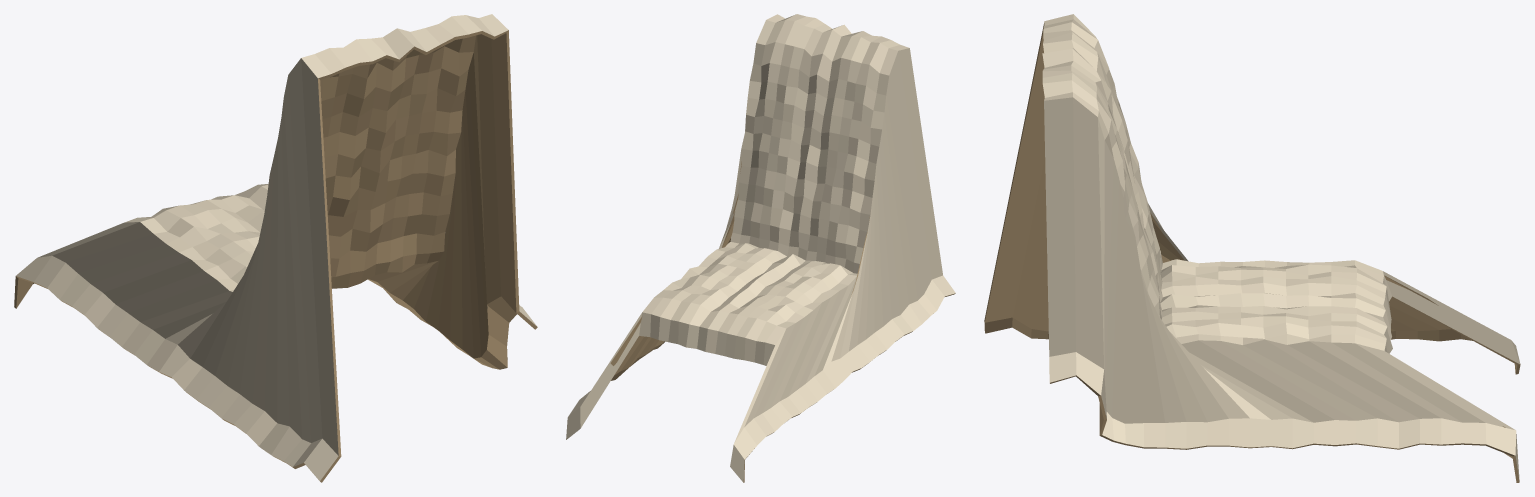
The model's file is seatcover_sheepskin_classic.glb.
3 views of the same model, side by side, from view 1: azimuth 30°, elevation 25°; view 2: azimuth 150°, elevation 25°; view 3: azimuth 270°, elevation 25° (orthographic). The views are drawn at different scales.
Parts seen in each view (by area): view 1: SeatCover; view 2: SeatCover; view 3: SeatCover.
Part boxes in pixels (x1,y1,x2,y2): SeatCover: [14, 14, 537, 482]; SeatCover: [566, 14, 955, 482]; SeatCover: [984, 14, 1520, 482].
Bounding box in the file's own units: 0.4806 × 0.7827 × 1.
